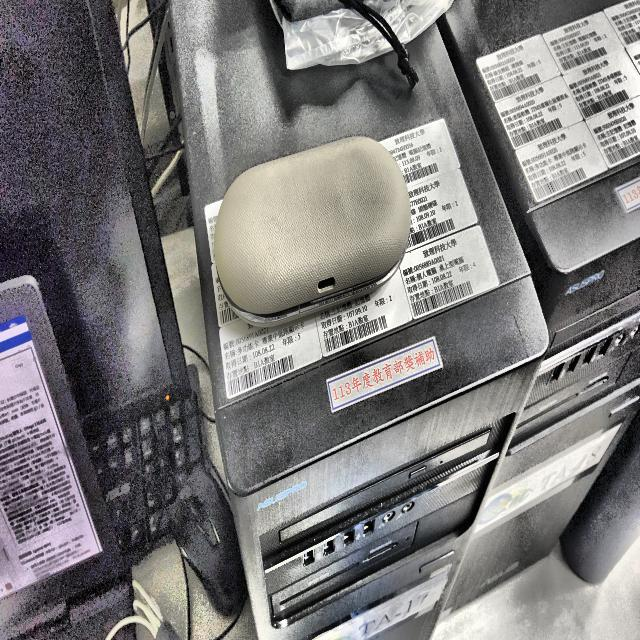laptop: (0, 276, 132, 640)
